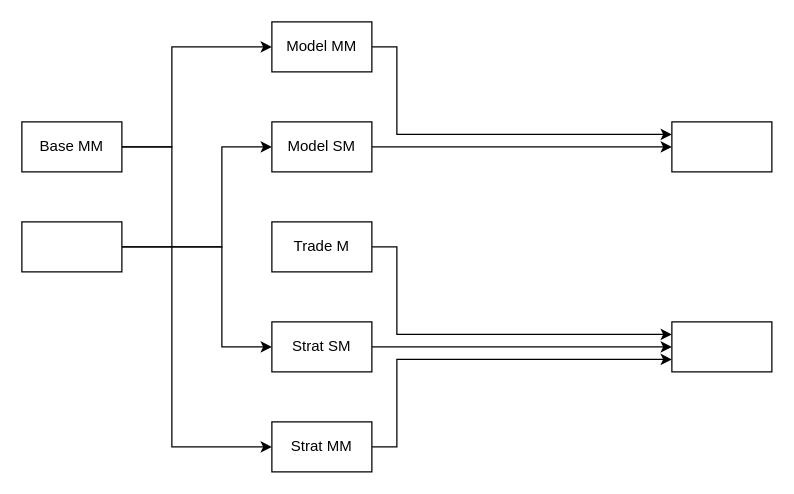
Some shapes in this 794 by 494 pixel diagram are drawn without their labels. Here are the shapes that lost their labels. From the top down, the centre of each, then its label:
At (721,146): "Model".
At (71,246): "Base SM".
At (721,346): "Strat".
